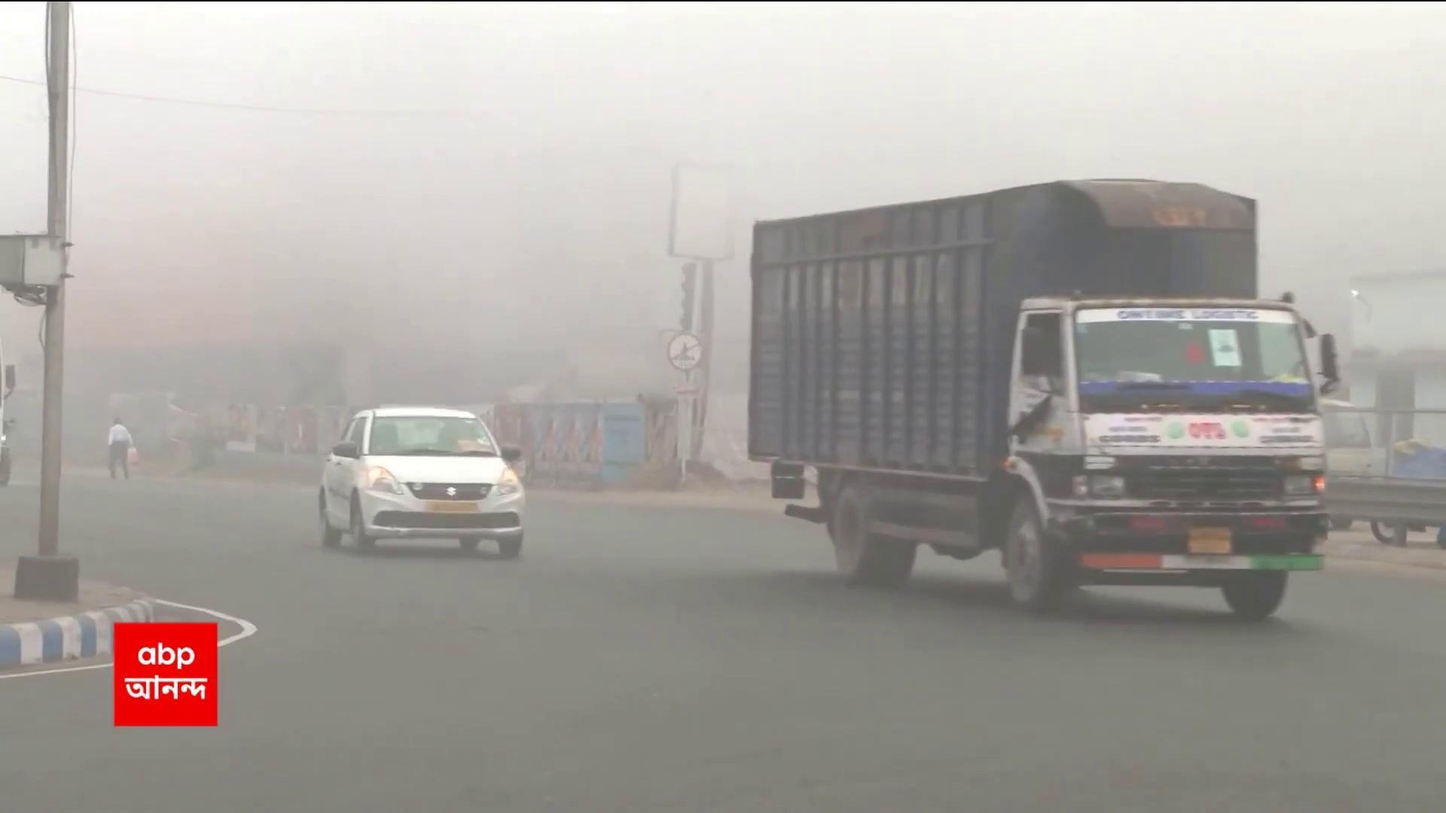Car: (316, 400, 529, 561)
Truck: (740, 175, 1336, 623)
